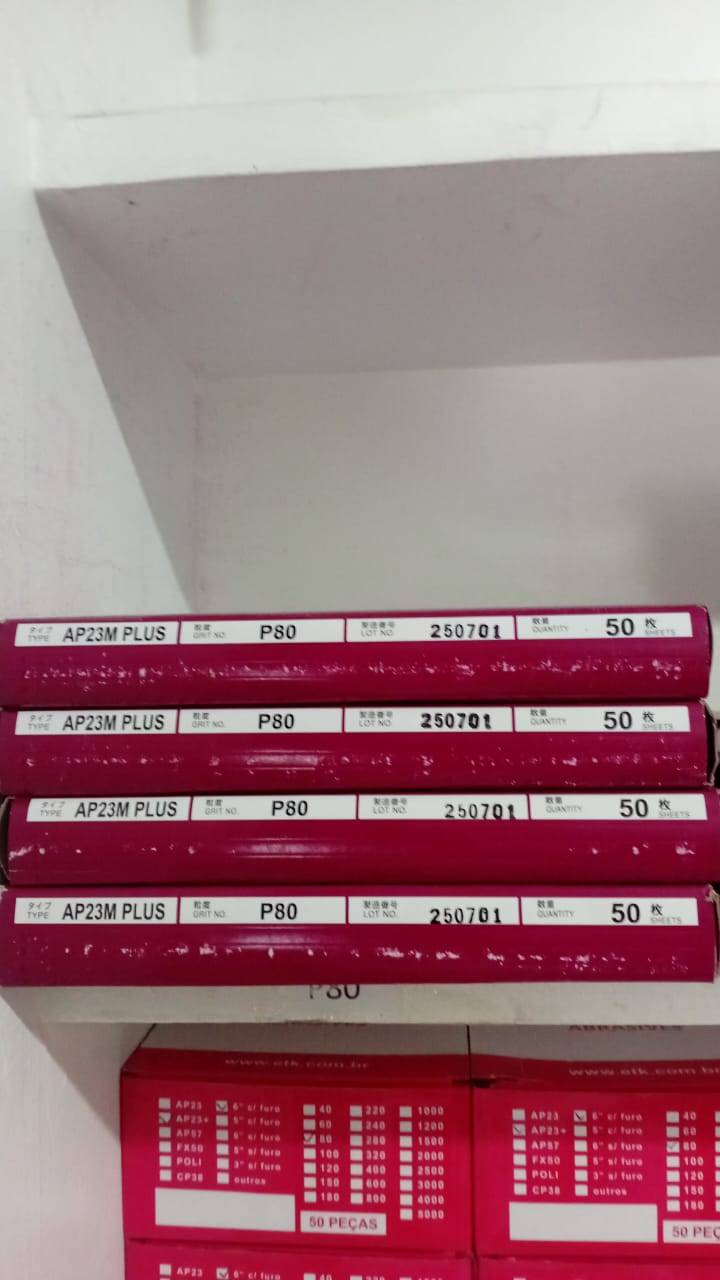discos: (284, 1079, 487, 1257)
grao: (182, 888, 347, 928), (181, 613, 346, 651), (194, 789, 359, 825), (178, 703, 344, 738)
objects: (5, 585, 718, 1015)
